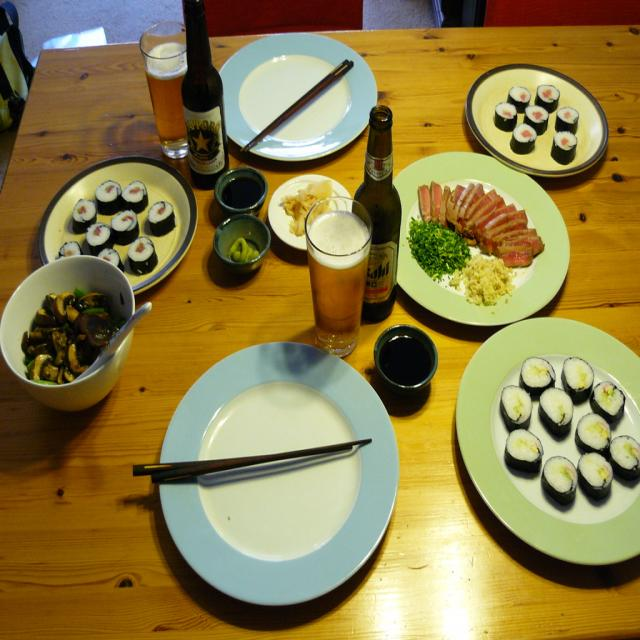non-organic waste: (150, 328, 412, 625), (449, 310, 640, 623), (367, 132, 577, 336), (459, 52, 615, 200)
